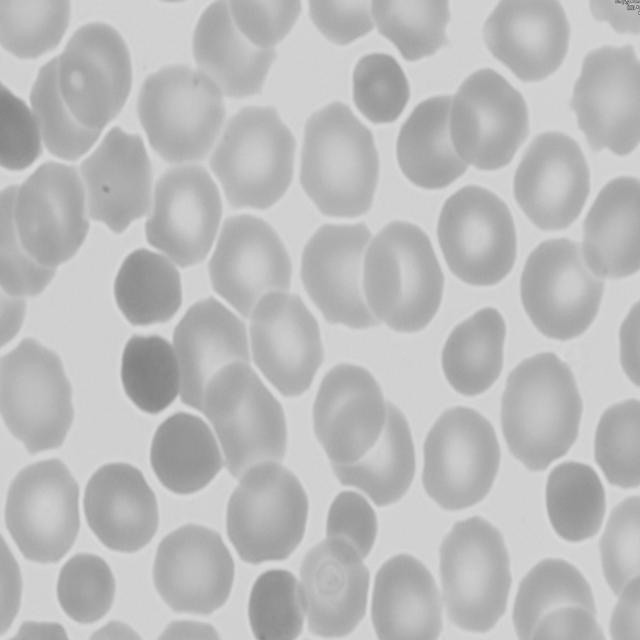RBC: (498, 345, 587, 470), (514, 231, 604, 344), (358, 214, 445, 330), (296, 104, 384, 218), (222, 460, 312, 566), (417, 399, 502, 511), (437, 510, 514, 633), (134, 61, 222, 166), (56, 20, 138, 132), (436, 182, 521, 290), (2, 457, 85, 566), (0, 340, 76, 458), (511, 129, 594, 237), (212, 106, 298, 210), (448, 66, 530, 174), (209, 214, 295, 316), (392, 88, 474, 194), (248, 293, 327, 402), (140, 164, 222, 268), (15, 160, 93, 269), (150, 518, 233, 620), (79, 462, 163, 557), (571, 44, 640, 159), (308, 357, 383, 462), (296, 541, 372, 640), (80, 128, 150, 235), (485, 0, 573, 84), (364, 551, 446, 640), (146, 412, 224, 502), (440, 300, 510, 398), (580, 173, 640, 285), (111, 248, 182, 332), (366, 0, 452, 62), (588, 399, 640, 494), (0, 0, 74, 64), (597, 494, 640, 600), (0, 85, 48, 177), (352, 51, 409, 128), (225, 0, 308, 50), (304, 0, 384, 45), (613, 292, 640, 403), (0, 529, 26, 640), (144, 611, 230, 640), (528, 610, 608, 640), (609, 570, 640, 640), (72, 614, 152, 640), (6, 614, 80, 640)
Spherocyte: (538, 456, 608, 549), (114, 330, 182, 422), (51, 552, 118, 630), (242, 564, 308, 640)
